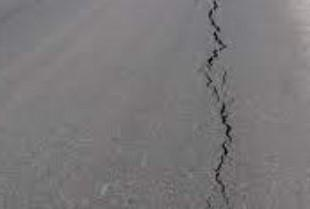crack: (197, 0, 234, 209)
